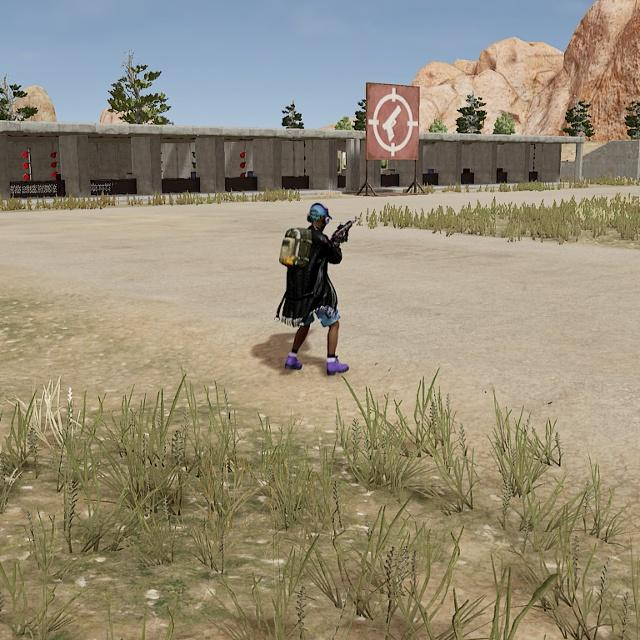head: (305, 200, 331, 238)
people: (275, 199, 354, 378)
